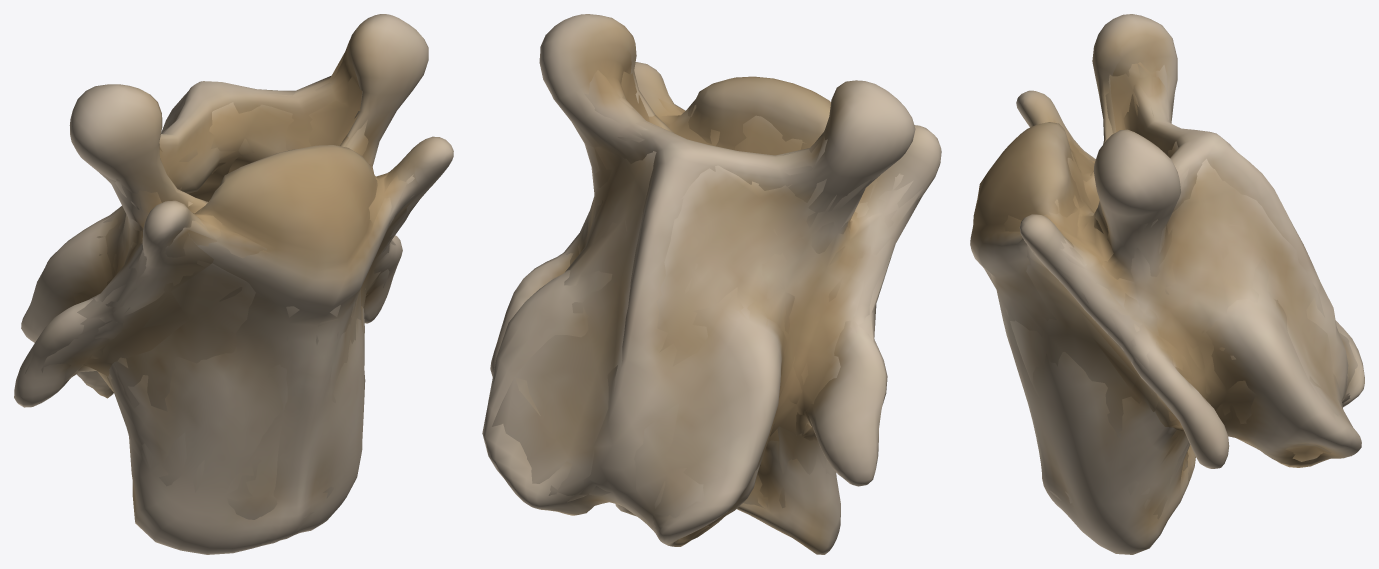
The model's file is vertebra cervicalis 3.fbx.
3 renders of one model, left to right at view 1: azimuth 30°, elevation 25°; view 2: azimuth 150°, elevation 25°; view 3: azimuth 270°, elevation 25°, orthographic. The views are drawn at different scales.
Parts seen in each view (by area): view 1: vertebra cervicalis 3, vertebra cervicalis 3 low; view 2: vertebra cervicalis 3, vertebra cervicalis 3 low; view 3: vertebra cervicalis 3, vertebra cervicalis 3 low.
Part boxes in pixels (bbox=[...]): vertebra cervicalis 3: bbox=[14, 14, 453, 554]; vertebra cervicalis 3 low: bbox=[25, 52, 418, 519]; vertebra cervicalis 3: bbox=[482, 14, 941, 554]; vertebra cervicalis 3 low: bbox=[492, 70, 922, 540]; vertebra cervicalis 3: bbox=[970, 14, 1364, 554]; vertebra cervicalis 3 low: bbox=[984, 62, 1357, 519].
Bounding box in the file's own units: 10.83 × 13.37 × 10.75.
1 material, 1 textured.
